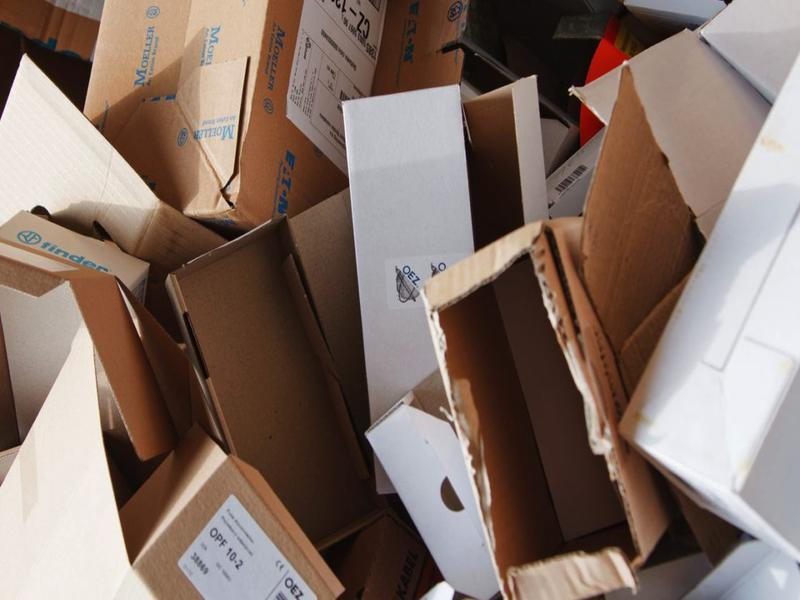cardboard: (402, 220, 671, 600), (609, 51, 800, 565), (75, 1, 390, 228), (1, 201, 181, 475), (115, 421, 348, 600)
